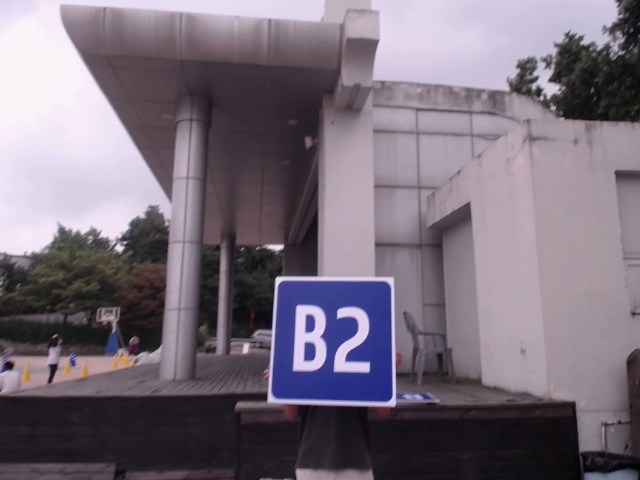delivery_b2: (275, 279, 393, 402)
